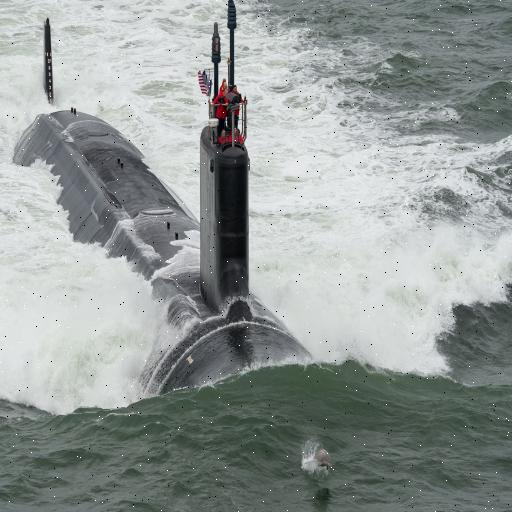submarine: (1, 1, 332, 405)
